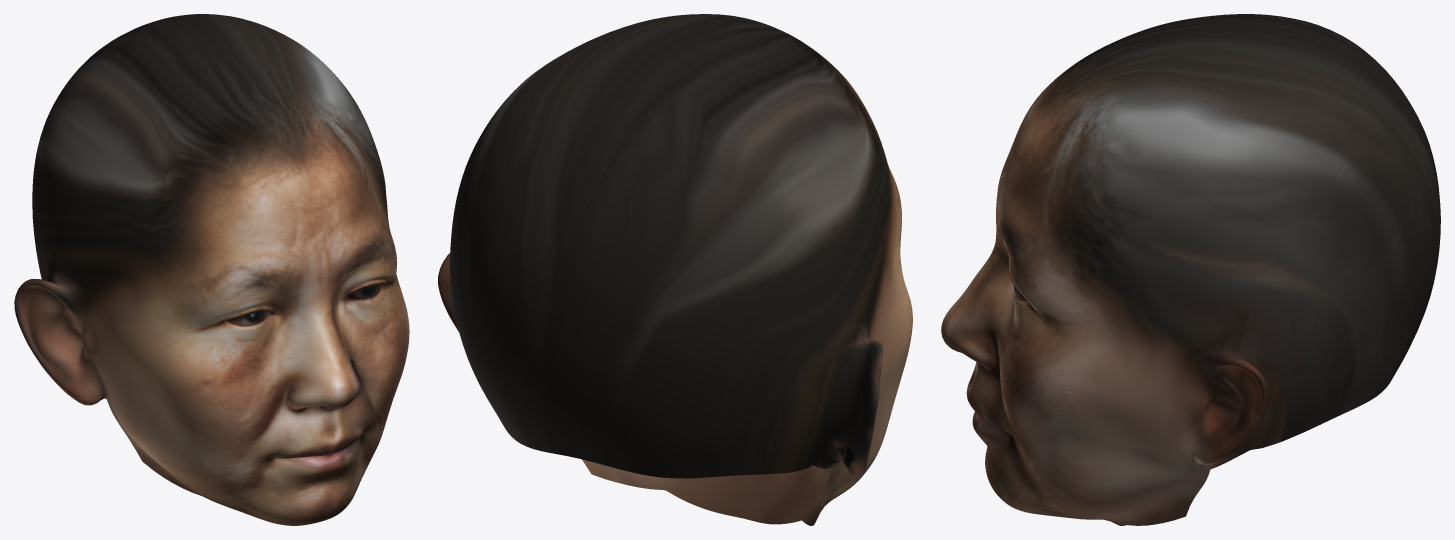
The picture shows the model from 3 angles, left to right: view 1: azimuth 30°, elevation 25°; view 2: azimuth 150°, elevation 25°; view 3: azimuth 270°, elevation 25°; orthographic projection. The views are drawn at different scales.
Visible parts, largest first — view 1: FBHead; view 2: FBHead; view 3: FBHead.
Part boxes in pixels (x1=…): FBHead: x1=14, y1=14, x2=409, y2=525; FBHead: x1=438, y1=14, x2=912, y2=525; FBHead: x1=941, y1=14, x2=1440, y2=525.
Size of the model in its own units: 1.84 by 2.09 by 1.98.
Materials: 1 (1 with a texture image).
